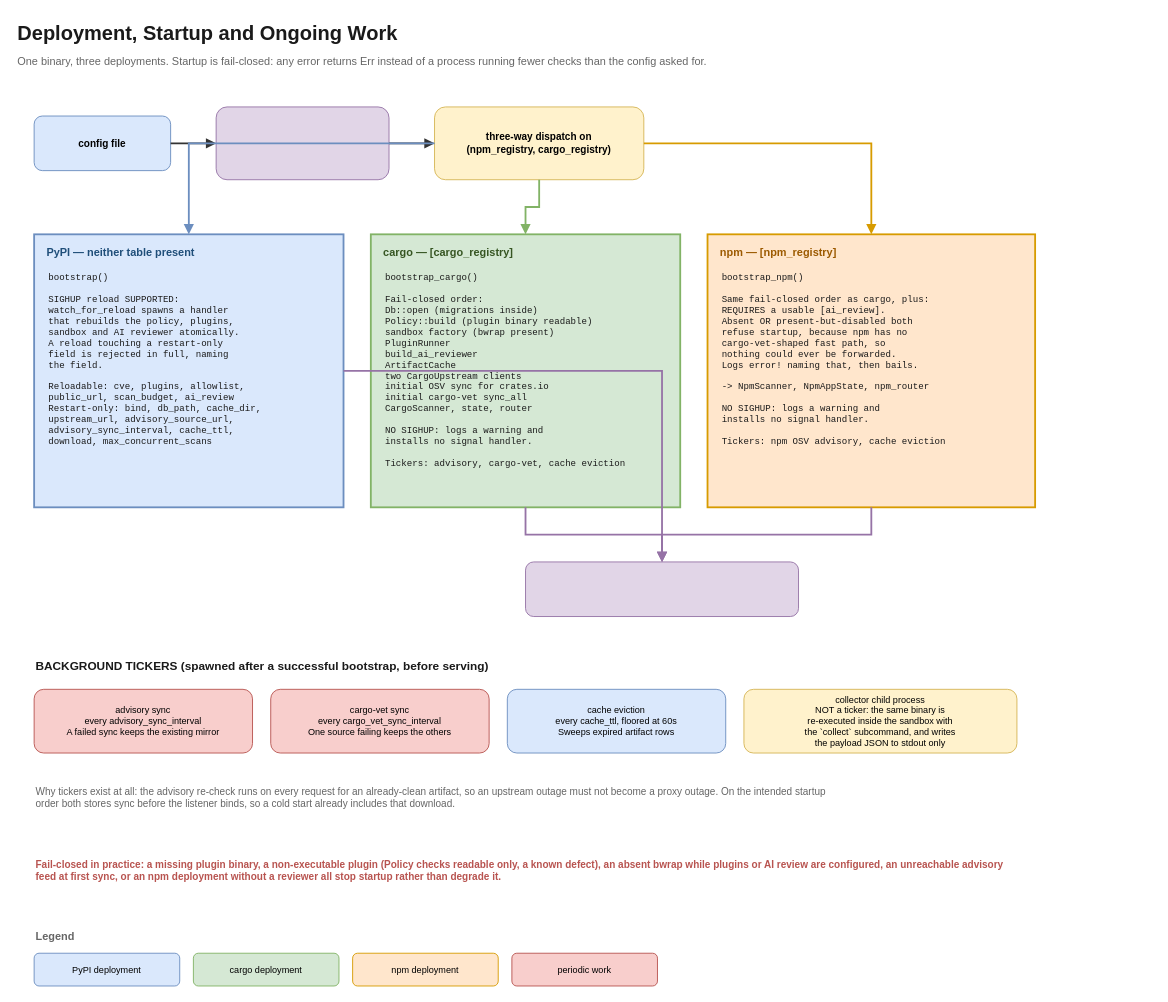
This 1168x1002 diagram has some shape labels left out. The shapes that lost their labels are listed below. From the top down, each one's centre as x and y in pixels, then its label:
At point 302,143: "Config::load + validate rejects more than one ecosystem table, naming both".
At point 662,589: "serve(bind, router) axum::serve, HTTP/1.1 only".
